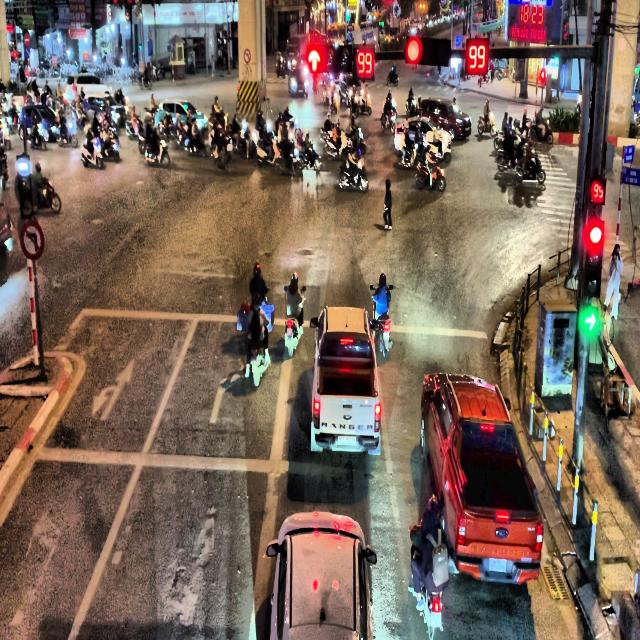lisence_plate: (487, 556, 507, 574), (338, 435, 357, 447)
